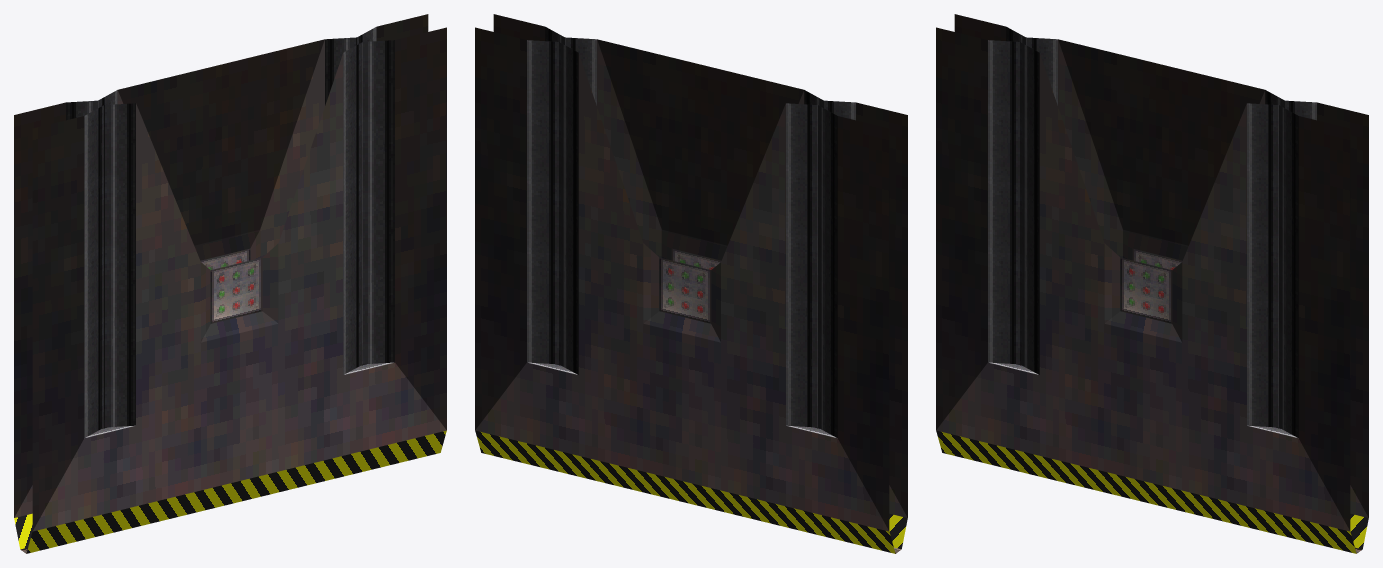
The model's file is blast_door_3.glb.
The picture shows the model from 3 angles, left to right: view 1: azimuth 30°, elevation 25°; view 2: azimuth 150°, elevation 25°; view 3: azimuth 330°, elevation 25°; orthographic projection.
Visible parts, largest first — view 1: Object; view 2: Object; view 3: Object.
Part boxes in pixels (x1,y1,x2,y2): Object: (14, 14, 446, 553); Object: (475, 14, 907, 553); Object: (936, 14, 1368, 553).
Size of the model in its own units: 2.65 by 2.63 by 0.204.
7 materials, 7 textured.
